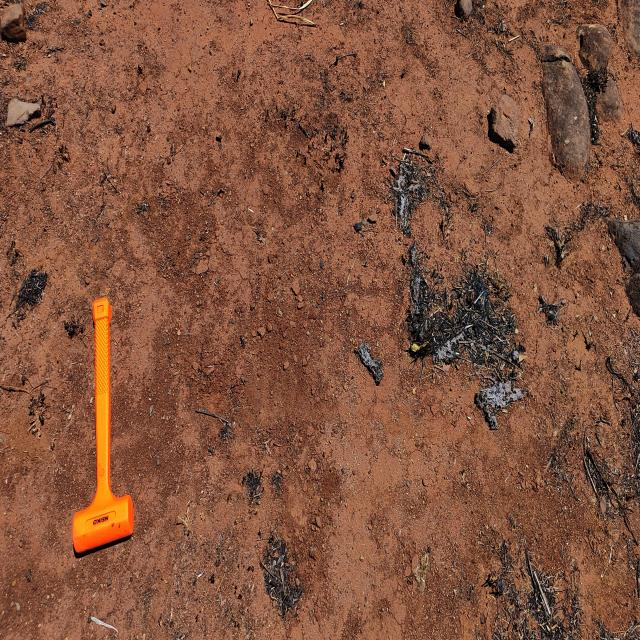Orange_hammer: (71, 296, 134, 557)
rock: (540, 48, 598, 186), (490, 93, 522, 153), (0, 2, 31, 43), (454, 0, 475, 27)
